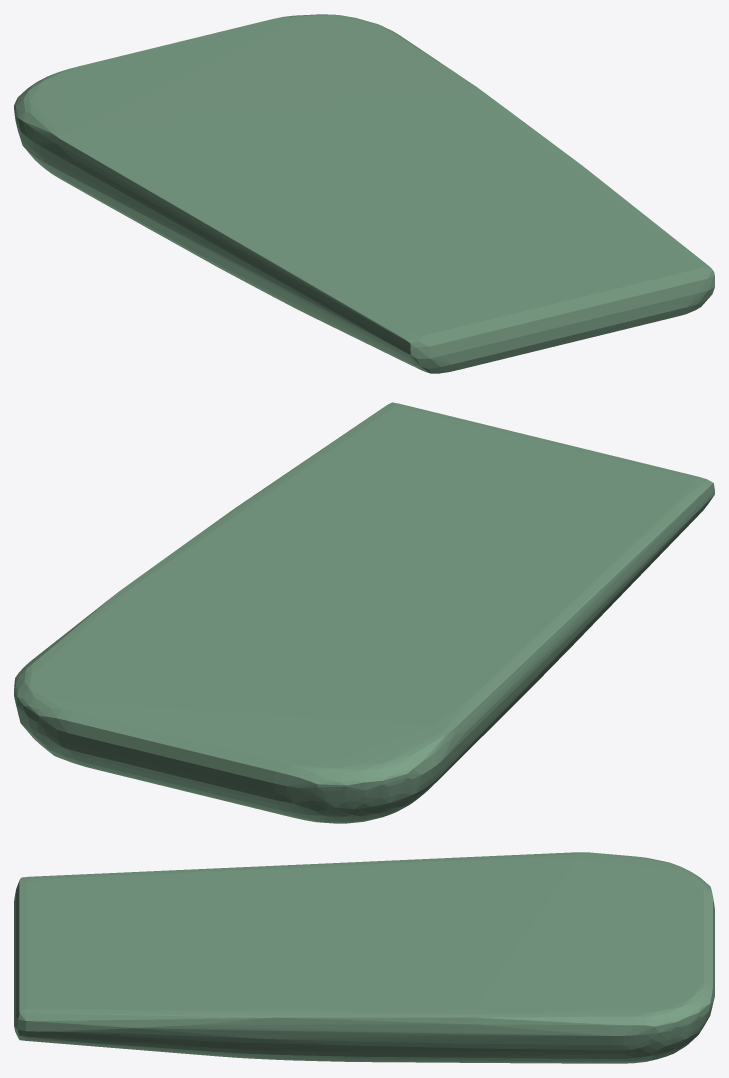
The model's file is right_knee_link_part_0.obj.
3 renders of one model, top to bottom at view 1: azimuth 30°, elevation 25°; view 2: azimuth 150°, elevation 25°; view 3: azimuth 270°, elevation 25°, orthographic. The views are drawn at different scales.
Bounding box in the file's own units: 0.0675 × 0.012 × 0.1174.
